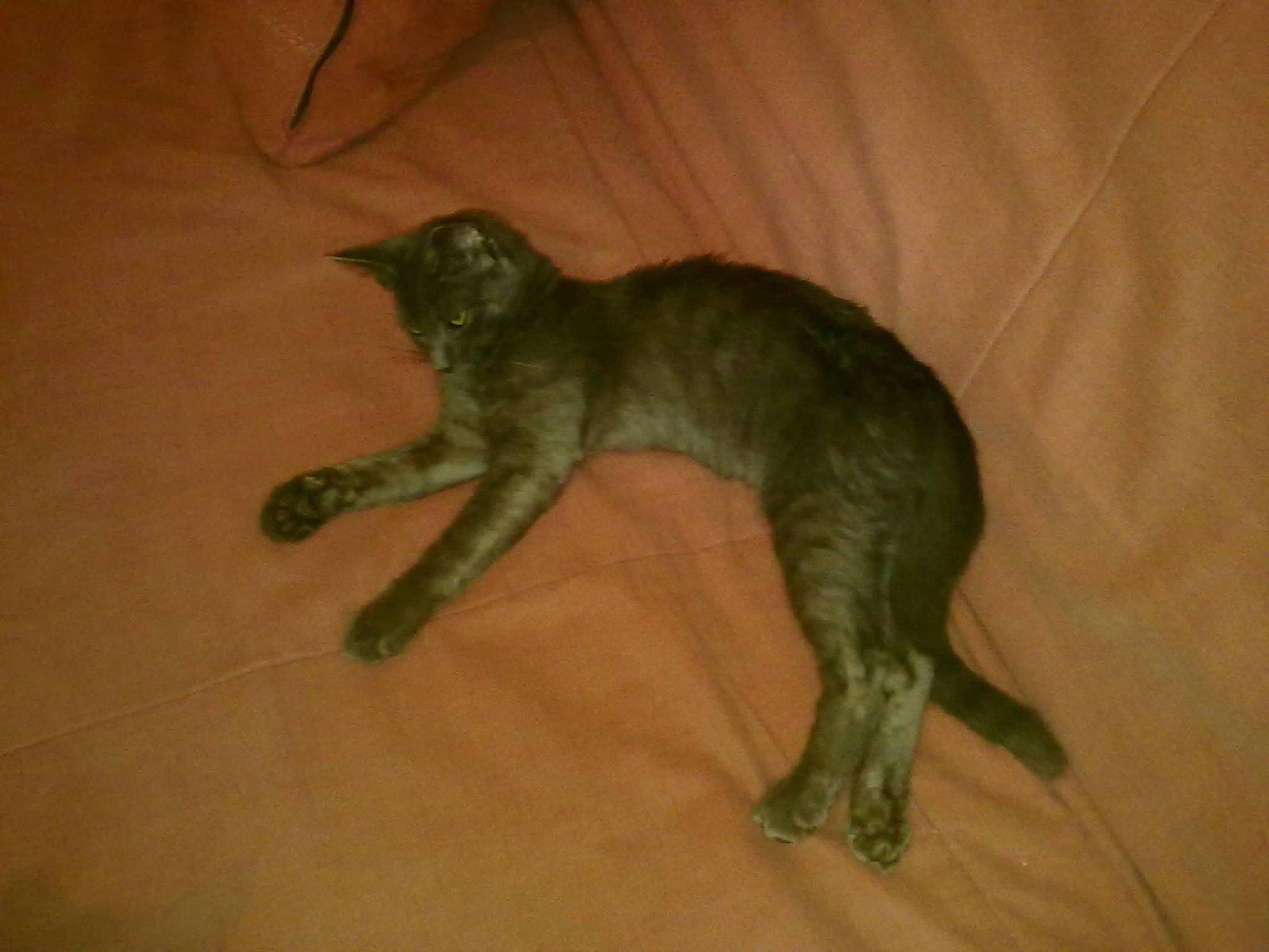macka: (258, 201, 1072, 871)
